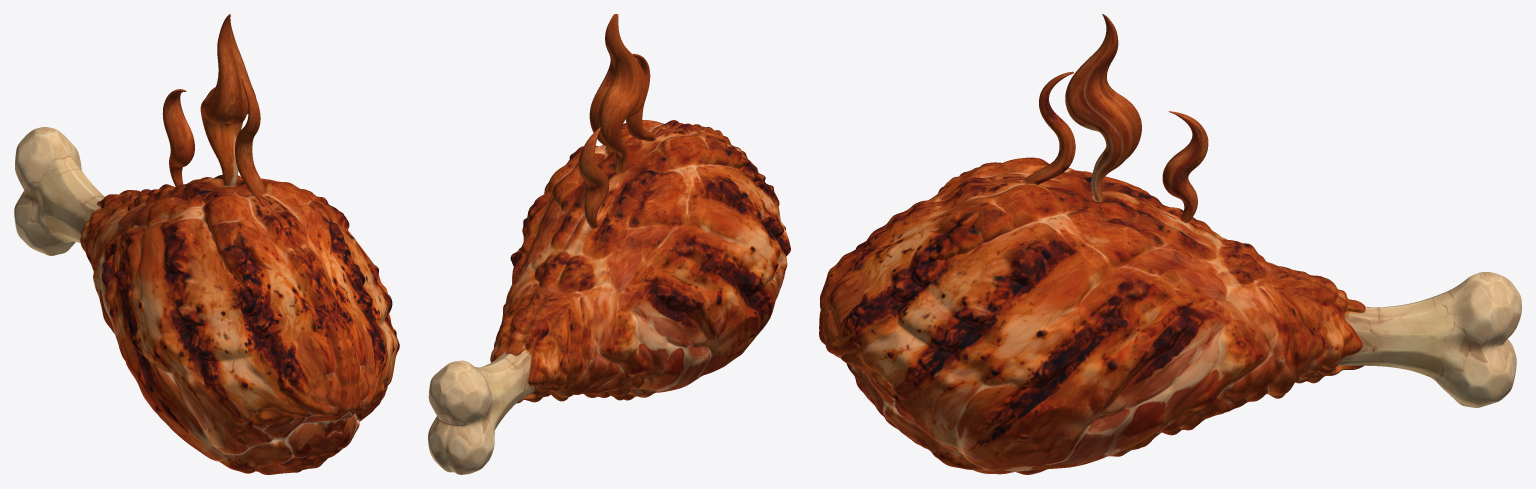
The model's file is Fleisch_gebraten_Variante_2.glb.
3 views of the same model, side by side, from view 1: azimuth 30°, elevation 25°; view 2: azimuth 150°, elevation 25°; view 3: azimuth 270°, elevation 25° (orthographic). The views are drawn at different scales.
Size of the model in its own units: 0.8003 by 1.35 by 1.9.
1 material, 1 textured.
